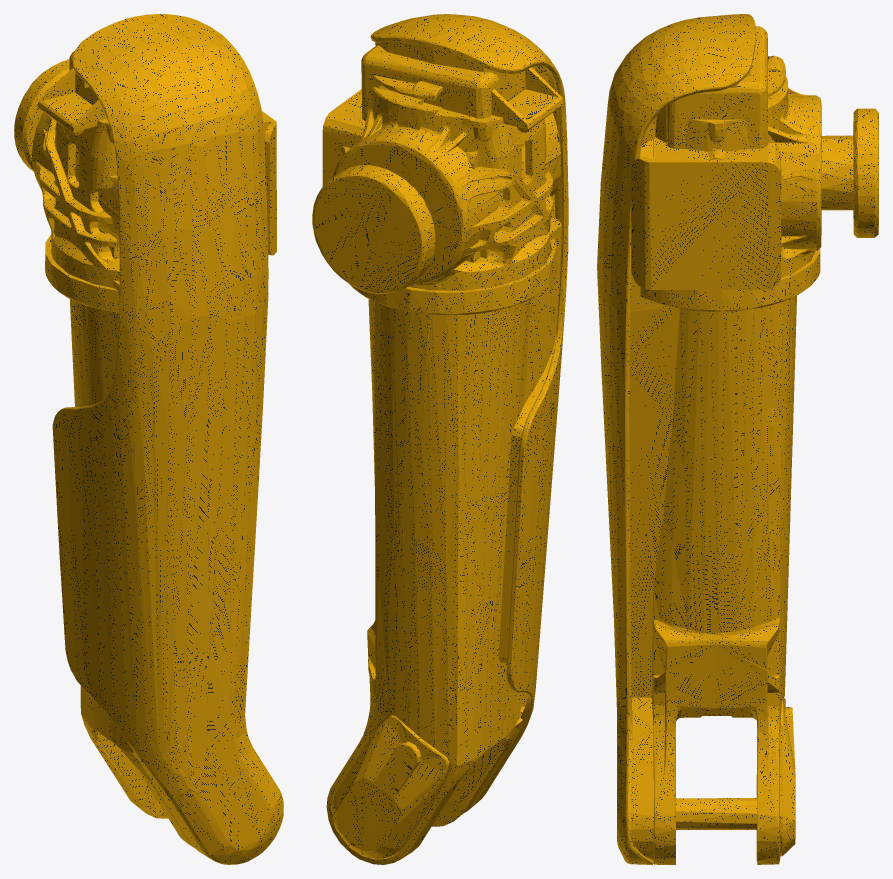
Rendered from front_right_upper_leg.obj.
3 renders of one model, left to right at view 1: azimuth 30°, elevation 25°; view 2: azimuth 150°, elevation 25°; view 3: azimuth 270°, elevation 25°, orthographic. The views are drawn at different scales.
Parts seen in each view (by area): view 1: front_right_upper_leg; view 2: front_right_upper_leg; view 3: front_right_upper_leg.
Boxes of the visible parts, x1,y1,x2,y2 form: front_right_upper_leg: [14, 14, 283, 864]; front_right_upper_leg: [312, 14, 568, 864]; front_right_upper_leg: [597, 14, 878, 864].
Size of the model in its own units: 0.1011 by 0.4184 by 0.1323.
